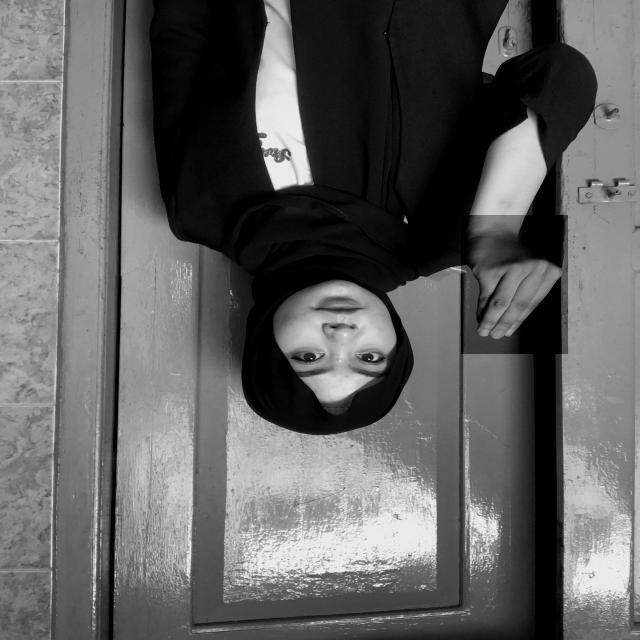kapan: (461, 215, 568, 354)
